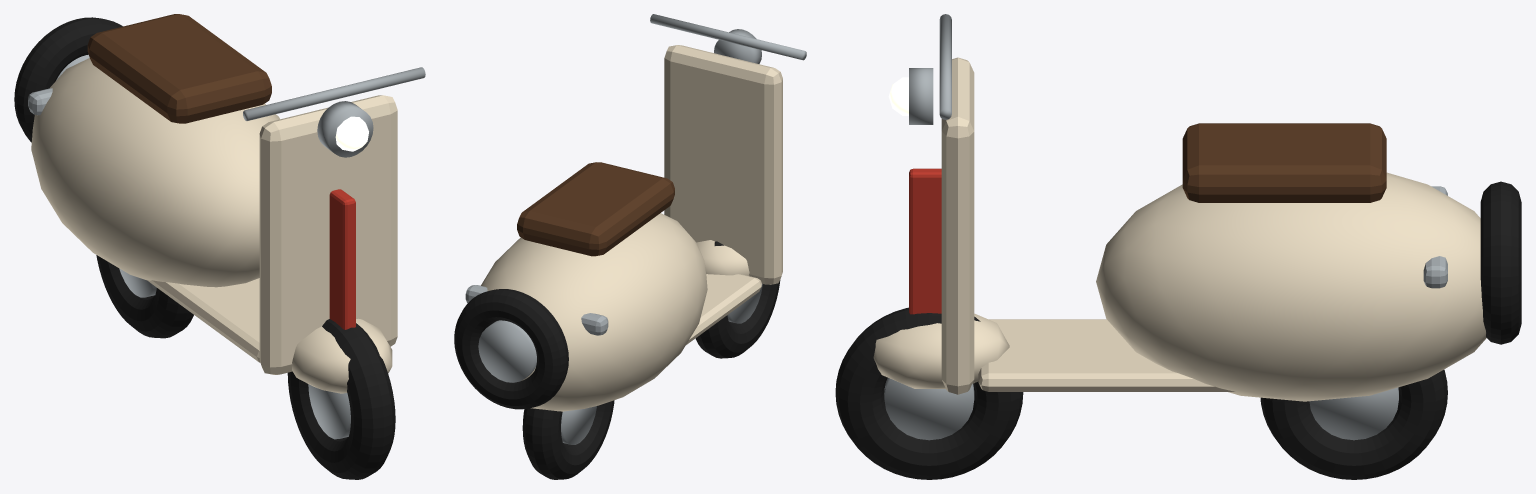
File: vespa-epoca.glb
3 renders of one model, left to right at view 1: azimuth 30°, elevation 25°; view 2: azimuth 150°, elevation 25°; view 3: azimuth 270°, elevation 25°, orthographic. The views are drawn at different scales.
Visible parts, largest first — view 1: Icosphere, Cube.001, Cube.002, Torus.004, Cube, Torus.006, Cube.003, Icosphere.001, Torus.005, Cylinder, Cylinder.002, Cylinder.001 (+3 smaller); view 2: Icosphere, Cube.001, Cube.002, Torus.006, Torus.005, Cylinder.004, Torus.004, Cube, Cylinder, Icosphere.001, Cylinder.003, Cylinder.001 (+2 smaller); view 3: Icosphere, Cube.002, Torus.004, Cube, Cube.001, Torus.005, Torus.006, Icosphere.001, Cube.003, Cylinder.002, Cylinder.003, Cylinder.001 (+2 smaller).
Boxes of the visible parts, x1=… form: Icosphere: x1=31, y1=58, x2=279, y2=287; Cube.001: x1=259, y1=95, x2=397, y2=374; Cube.002: x1=87, y1=14, x2=271, y2=123; Torus.004: x1=287, y1=319, x2=395, y2=479; Cube: x1=147, y1=278, x2=260, y2=362; Torus.006: x1=14, y1=17, x2=122, y2=142; Cube.003: x1=329, y1=189, x2=355, y2=329; Icosphere.001: x1=292, y1=318, x2=392, y2=393; Torus.005: x1=96, y1=255, x2=193, y2=338; Cylinder: x1=243, y1=67, x2=425, y2=120; Cylinder.002: x1=308, y1=384, x2=350, y2=439; Cylinder.001: x1=317, y1=101, x2=373, y2=157; Icosphere: x1=481, y1=213, x2=707, y2=411; Cube.001: x1=664, y1=45, x2=782, y2=284; Cube.002: x1=517, y1=162, x2=674, y2=256; Torus.006: x1=454, y1=289, x2=568, y2=409; Torus.005: x1=522, y1=400, x2=614, y2=479; Cylinder.004: x1=478, y1=320, x2=536, y2=382; Torus.004: x1=695, y1=241, x2=780, y2=358; Cube: x1=686, y1=274, x2=761, y2=344; Cylinder: x1=650, y1=14, x2=806, y2=60; Icosphere.001: x1=696, y1=240, x2=749, y2=275; Cylinder.003: x1=561, y1=406, x2=596, y2=444; Cylinder.001: x1=714, y1=29, x2=761, y2=63; Icosphere: x1=1096, y1=172, x2=1486, y2=401; Cube.002: x1=1182, y1=123, x2=1386, y2=202; Torus.004: x1=835, y1=307, x2=1023, y2=479; Cube: x1=978, y1=319, x2=1234, y2=391; Cube.001: x1=941, y1=57, x2=974, y2=394; Torus.005: x1=1260, y1=369, x2=1447, y2=479; Torus.006: x1=1480, y1=181, x2=1521, y2=344; Icosphere.001: x1=873, y1=313, x2=1009, y2=388; Cube.003: x1=909, y1=168, x2=941, y2=314; Cylinder.002: x1=884, y1=378, x2=974, y2=440; Cylinder.003: x1=1309, y1=387, x2=1398, y2=440; Cylinder.001: x1=909, y1=68, x2=933, y2=124.
Size of the model in its own units: 0.64 by 1.13 by 1.68.
